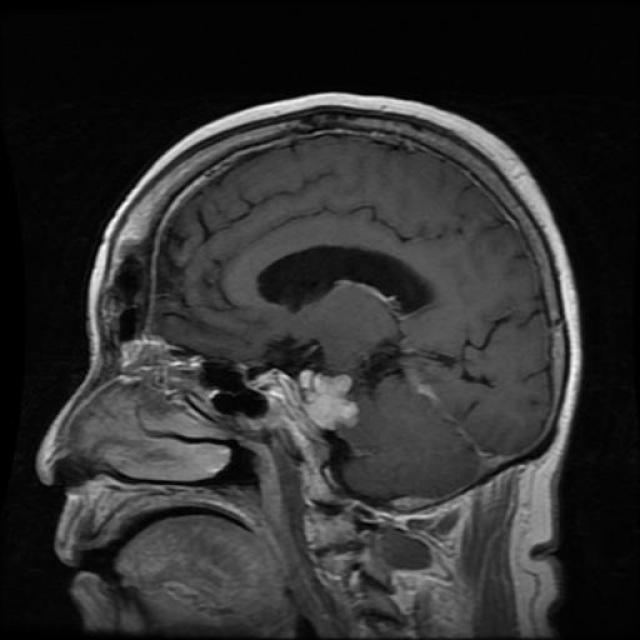meningioma: (300, 370, 359, 431)
